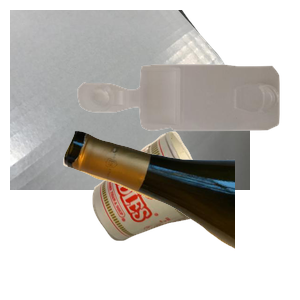cardboard: (10, 10, 250, 190)
glass: (60, 128, 300, 300)
plastic: (75, 62, 300, 186)
trash: (90, 129, 295, 300)
